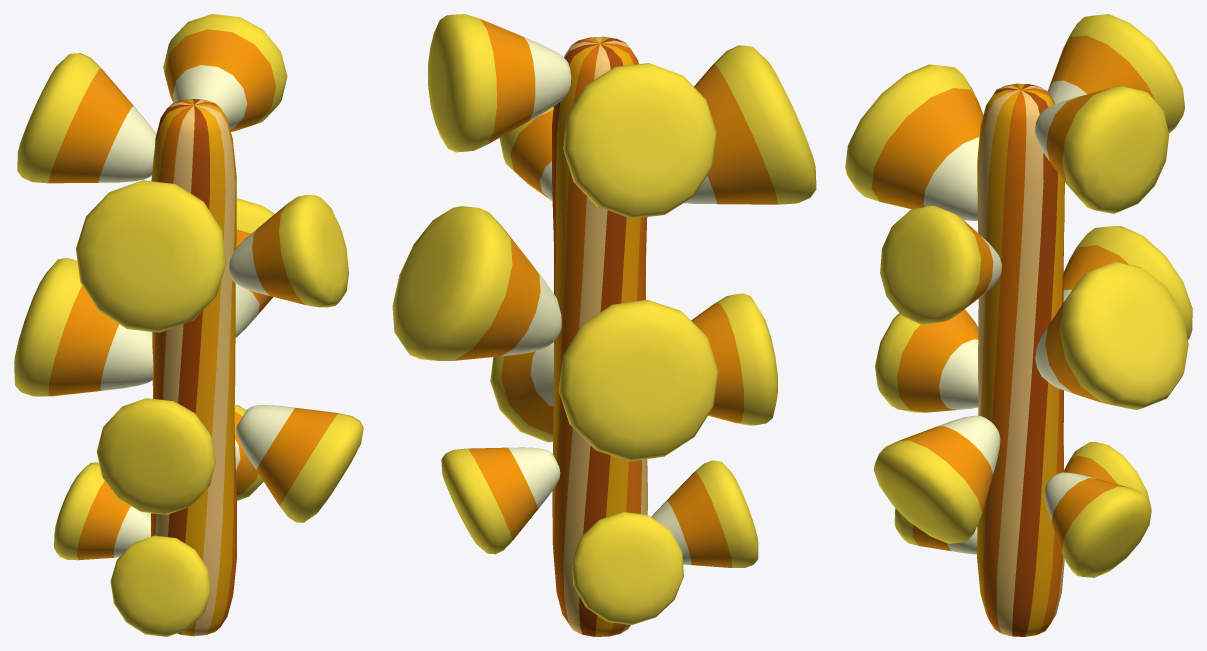
File: cw_PlantsFlowers_1.fbx
3 views of the same model, side by side, from view 1: azimuth 30°, elevation 25°; view 2: azimuth 150°, elevation 25°; view 3: azimuth 270°, elevation 25° (orthographic). The views are drawn at different scales.
Visible parts, largest first — view 1: cw_pf_1; view 2: cw_pf_1; view 3: cw_pf_1.
Boxes of the visible parts, x1,y1,x2,y2 form: cw_pf_1: (14,14,363,636); cw_pf_1: (392,14,816,636); cw_pf_1: (845,14,1192,636).
Size of the model in its own units: 94.44 by 174 by 94.94.
